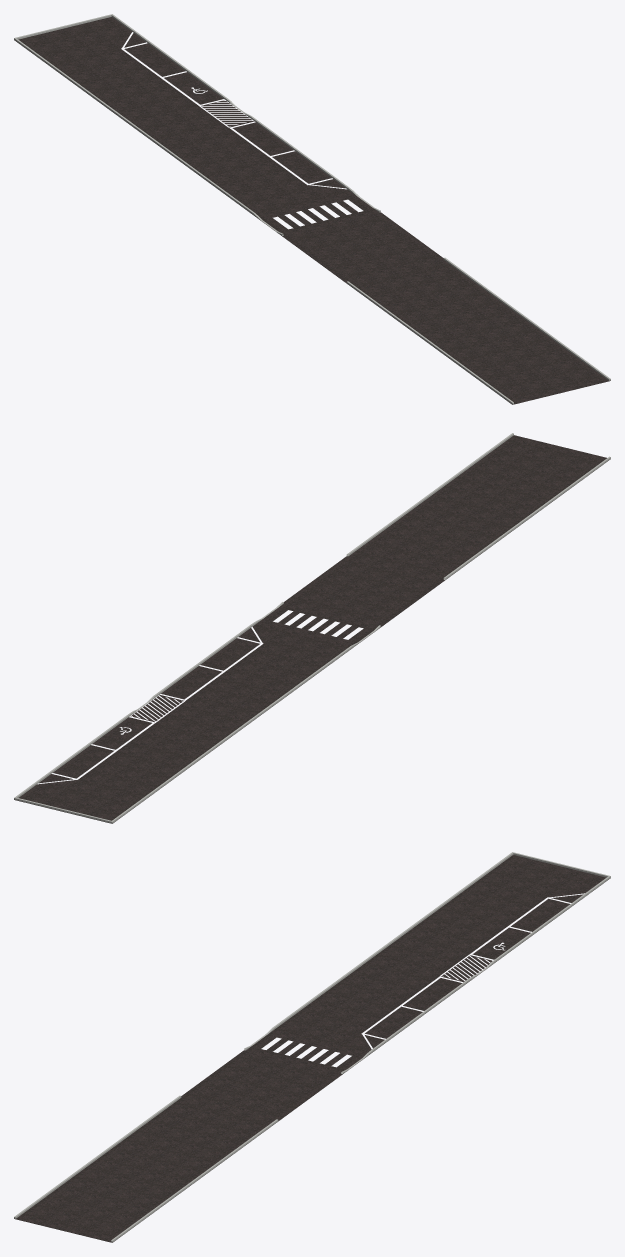
Rendered from Road.fbx.
The picture shows the model from 3 angles, top to bottom: view 1: azimuth 30°, elevation 25°; view 2: azimuth 150°, elevation 25°; view 3: azimuth 330°, elevation 25°; orthographic projection.
Visible parts, largest first — view 1: Road; view 2: Road; view 3: Road.
Boxes of the visible parts, bbox=[...] form: Road: bbox=[14, 14, 610, 404]; Road: bbox=[14, 433, 610, 823]; Road: bbox=[14, 852, 610, 1242].
Size of the model in its own units: 36 by 0.7001 by 316.
